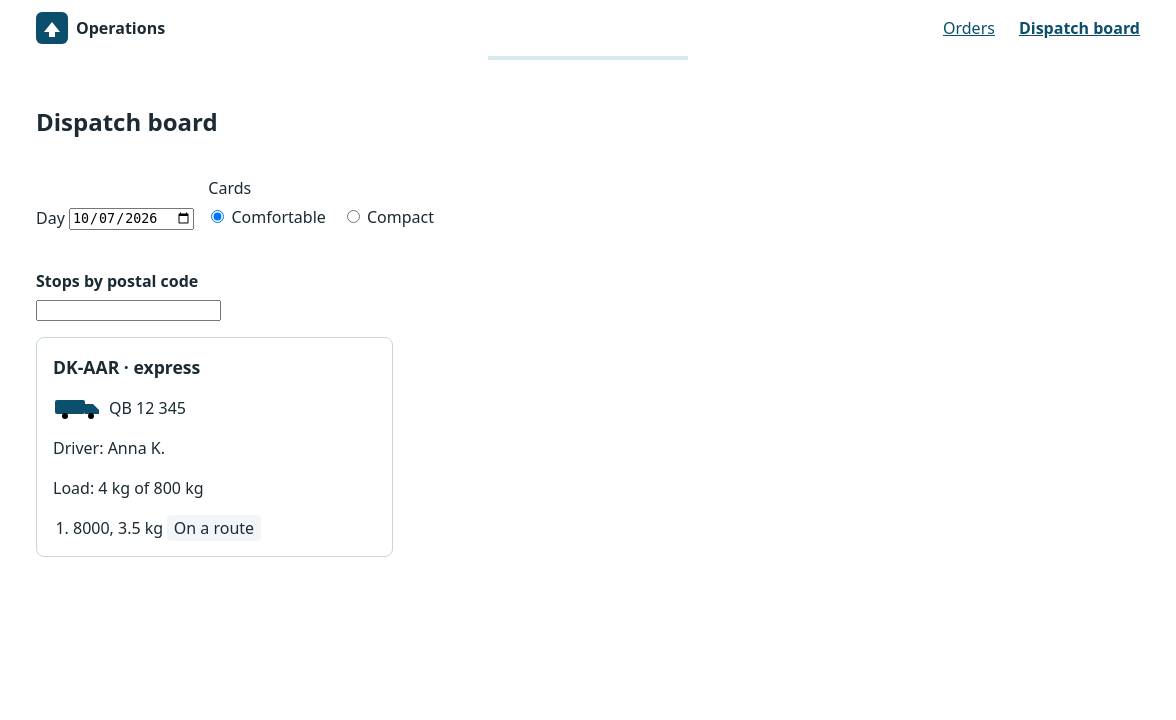
Test: board preferences › remembers the card density in this browser and filters stops by postal code
Click the radio button labelled "Compact": (353, 217) [347,210,360,223]
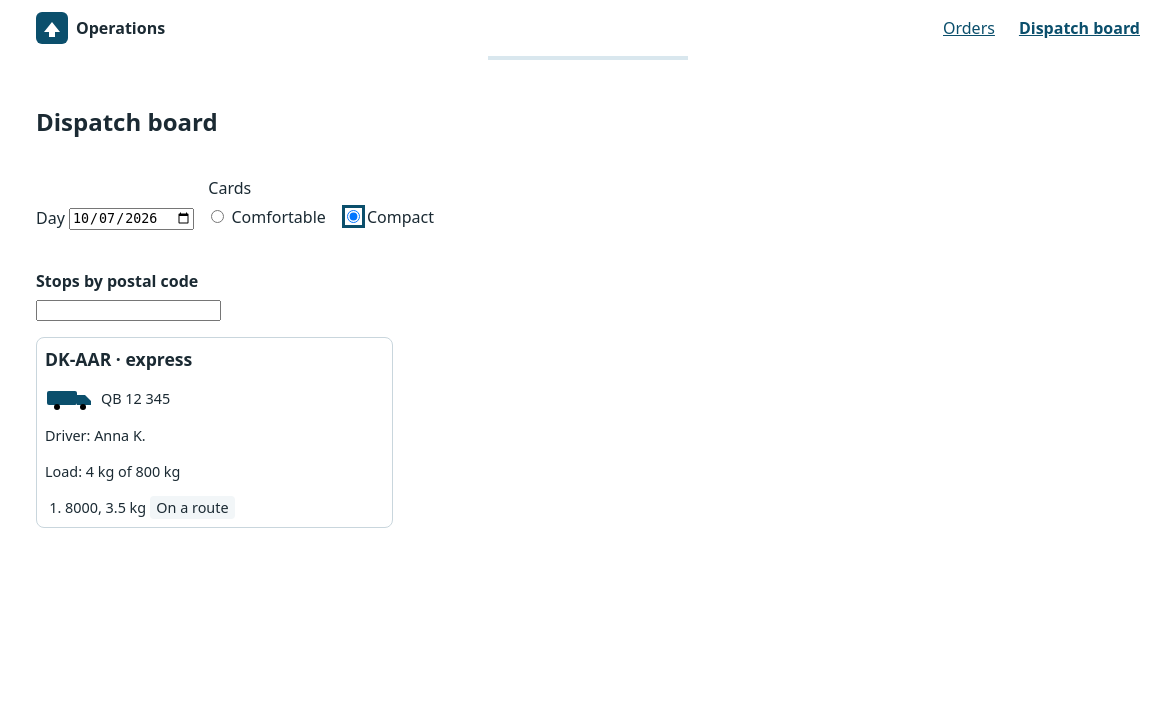
In the search field named "Show only stops with this postal code": (128, 310) [36,300,221,321], type "9000"
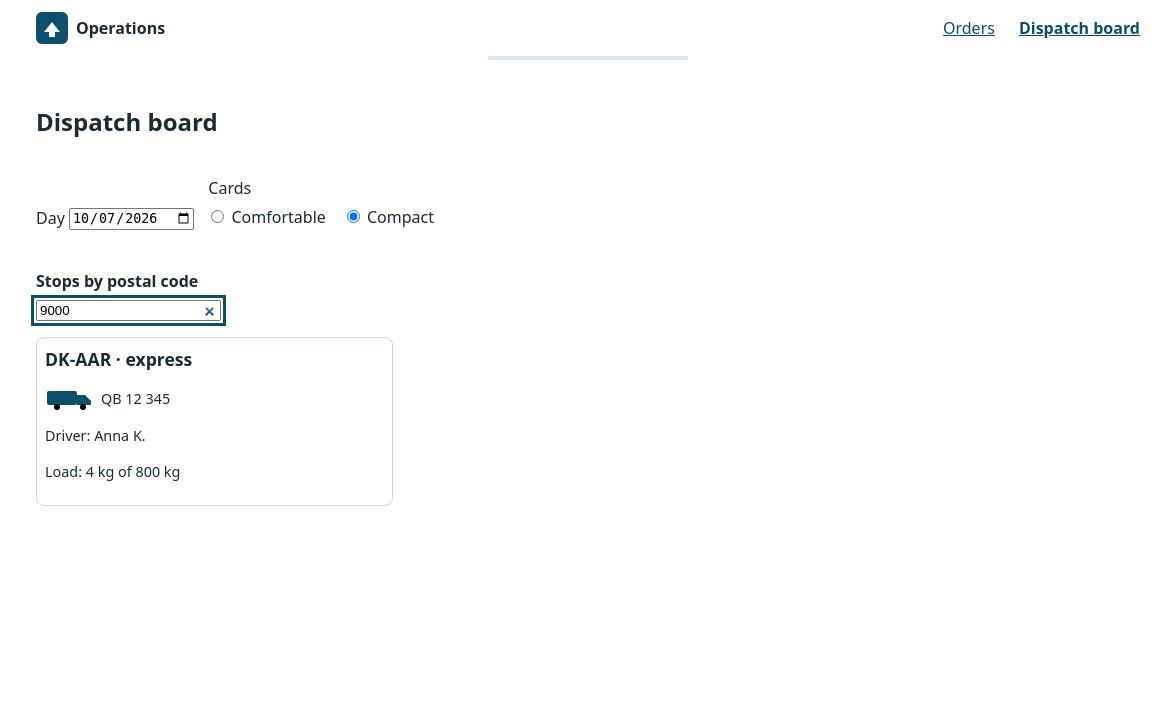
expect the list item "8000," is gone: met
